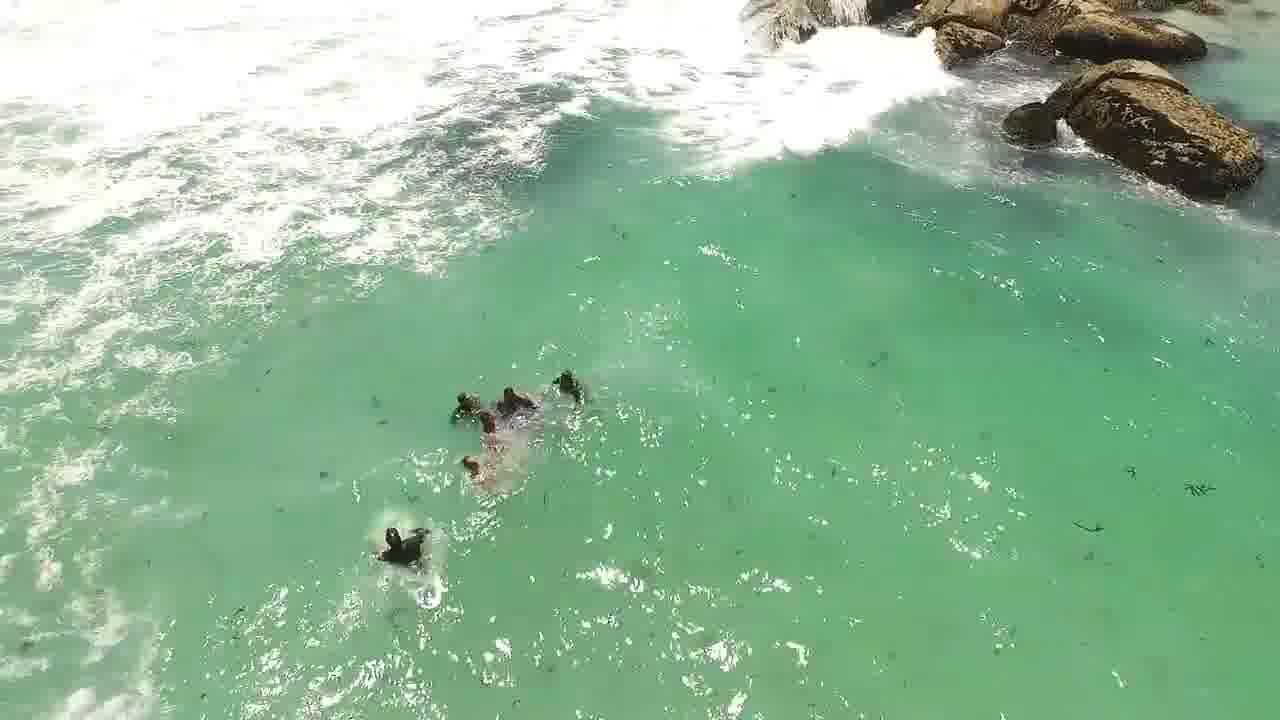human: (369, 517, 443, 572), (544, 357, 608, 408), (446, 448, 504, 490), (470, 410, 532, 448), (498, 379, 547, 424), (438, 386, 485, 422)
